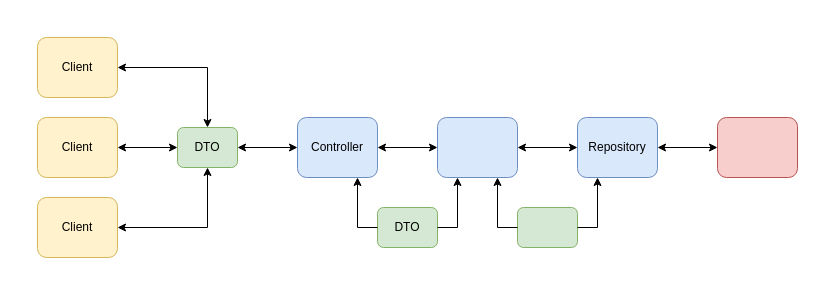
Some shapes in this 834 by 294 pixel diagram are drawn without their labels. The shapes that lost their labels are listed below. From the top down, each one's centre as x and y in pixels, then its label:
At point 477,147: "Service".
At point 757,147: "Database".
At point 547,227: "Entity".
